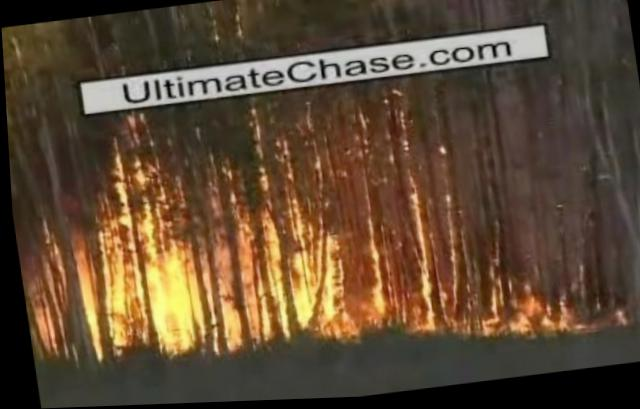fire: (0, 0, 639, 404)
